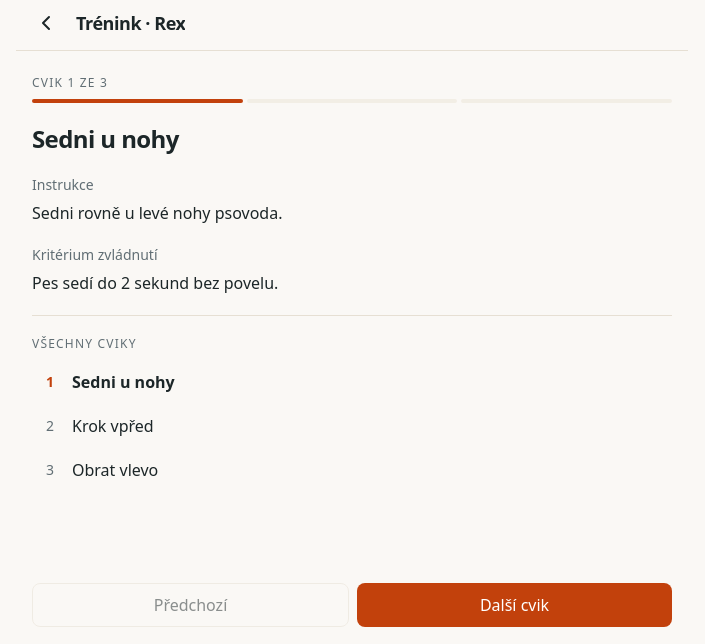
Test: TrainingWalkthrough › allows jumping directly to an exercise from 'Všechny cviky' list
// Click on exercise 3 in the list
Click the button "3 Obrat vlevo": (115, 470) x1=32 y1=448 x2=672 y2=492
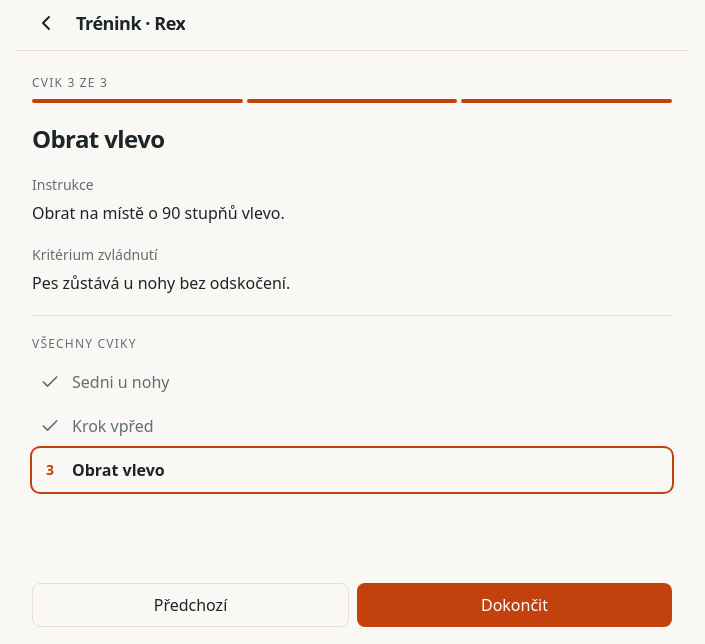
Check: the text "CVIK 3 ZE 3" is shown, box x1=32 y1=74 x2=108 y2=91
Check: the heading "Obrat vlevo" is shown, box x1=32 y1=122 x2=164 y2=155
Check: the icon named "Hotovo: Sedni u nohy" is shown, box x1=40 y1=372 x2=60 y2=392
